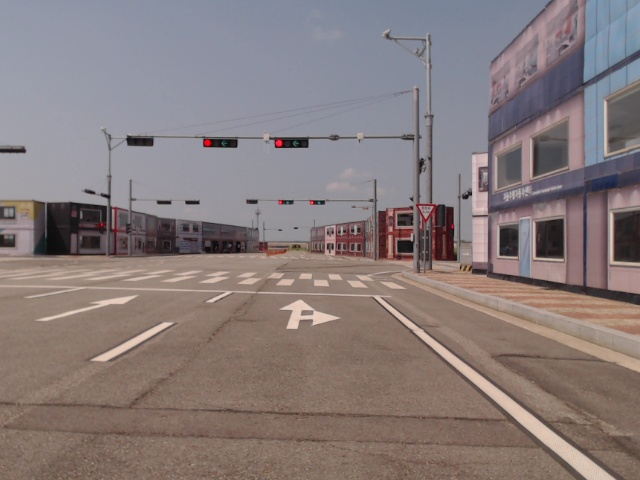left_green_4: (203, 139, 238, 148), (275, 140, 308, 147)
